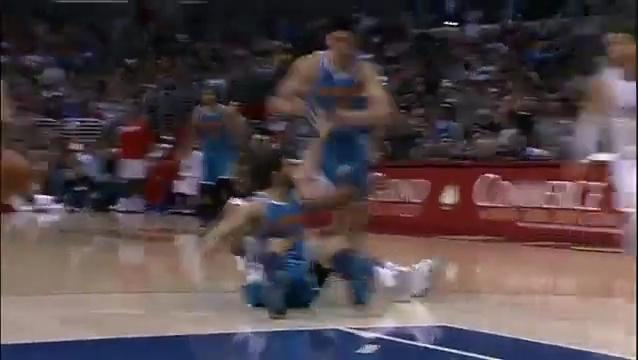Ball: (1, 149, 31, 201)
Person: (218, 151, 426, 315), (267, 16, 398, 234), (581, 26, 638, 284), (190, 84, 250, 234)
